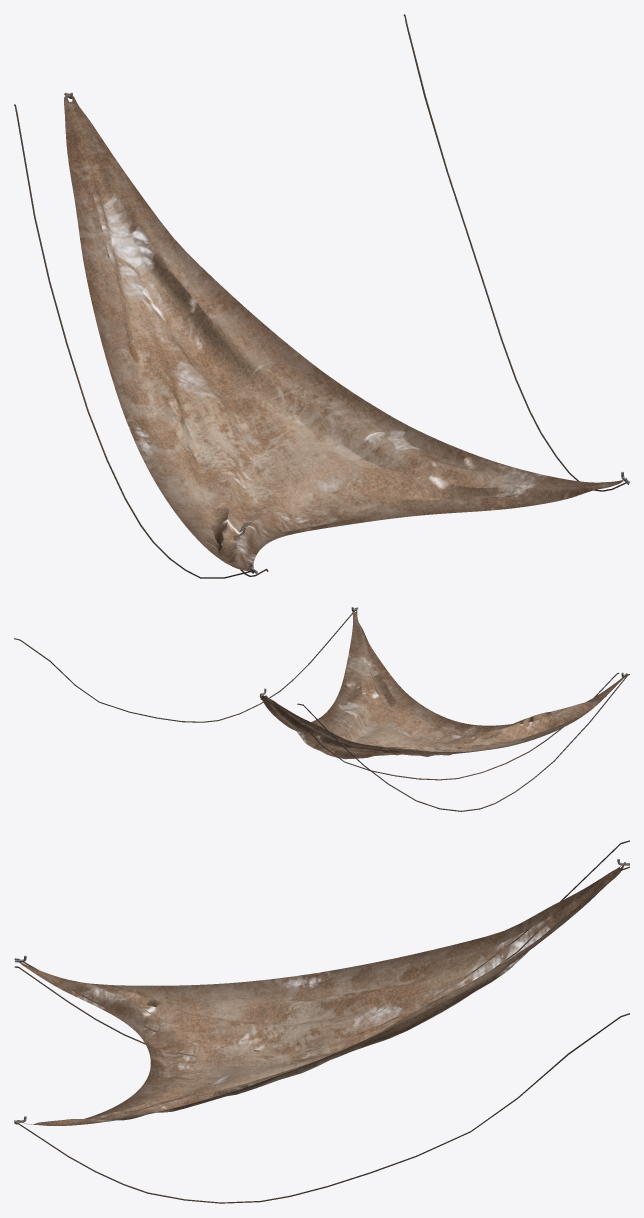
Rendered from xi_dsp_awning_03.gltf.
The picture shows the model from 3 angles, top to bottom: view 1: azimuth 30°, elevation 25°; view 2: azimuth 150°, elevation 25°; view 3: azimuth 270°, elevation 25°; orthographic projection. The views are drawn at different scales.
Parts seen in each view (by area): view 1: xi_dsp_awning_03; view 2: xi_dsp_awning_03; view 3: xi_dsp_awning_03.
Boxes of the visible parts, x1,y1,x2,y2 form: xi_dsp_awning_03: [14, 14, 629, 578]; xi_dsp_awning_03: [14, 607, 629, 811]; xi_dsp_awning_03: [14, 840, 629, 1203].
Size of the model in its own units: 9.38 by 4.93 by 11.31.
Materials: 1 (1 with a texture image).
